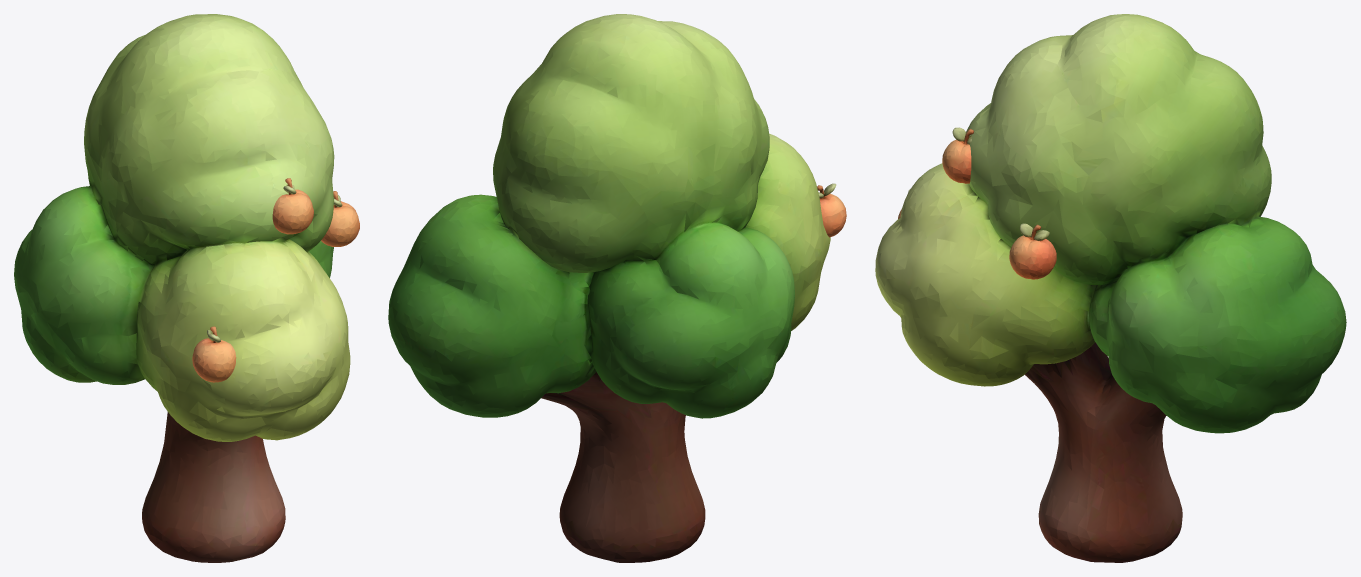
The model's file is F17-three-fruit-tree.glb.
3 renders of one model, left to right at view 1: azimuth 30°, elevation 25°; view 2: azimuth 150°, elevation 25°; view 3: azimuth 270°, elevation 25°, orthographic.
Visible parts, largest first — view 1: F17_Tree, F17_Fruit_1, F17_Fruit_3, F17_Fruit_2; view 2: F17_Tree, F17_Fruit_1; view 3: F17_Tree, F17_Fruit_2, F17_Fruit_3.
Boxes of the visible parts, bbox=[...] form: F17_Tree: bbox=[14, 14, 350, 562]; F17_Fruit_1: bbox=[192, 326, 236, 382]; F17_Fruit_3: bbox=[272, 178, 313, 234]; F17_Fruit_2: bbox=[321, 191, 359, 246]; F17_Tree: bbox=[388, 14, 830, 562]; F17_Fruit_1: bbox=[817, 183, 846, 237]; F17_Tree: bbox=[875, 14, 1346, 562]; F17_Fruit_2: bbox=[1009, 223, 1056, 279]; F17_Fruit_3: bbox=[942, 127, 973, 183].
Bounding box in the file's own units: 2.88 × 4.4 × 3.63.
Materials: 2 (2 with a texture image).
